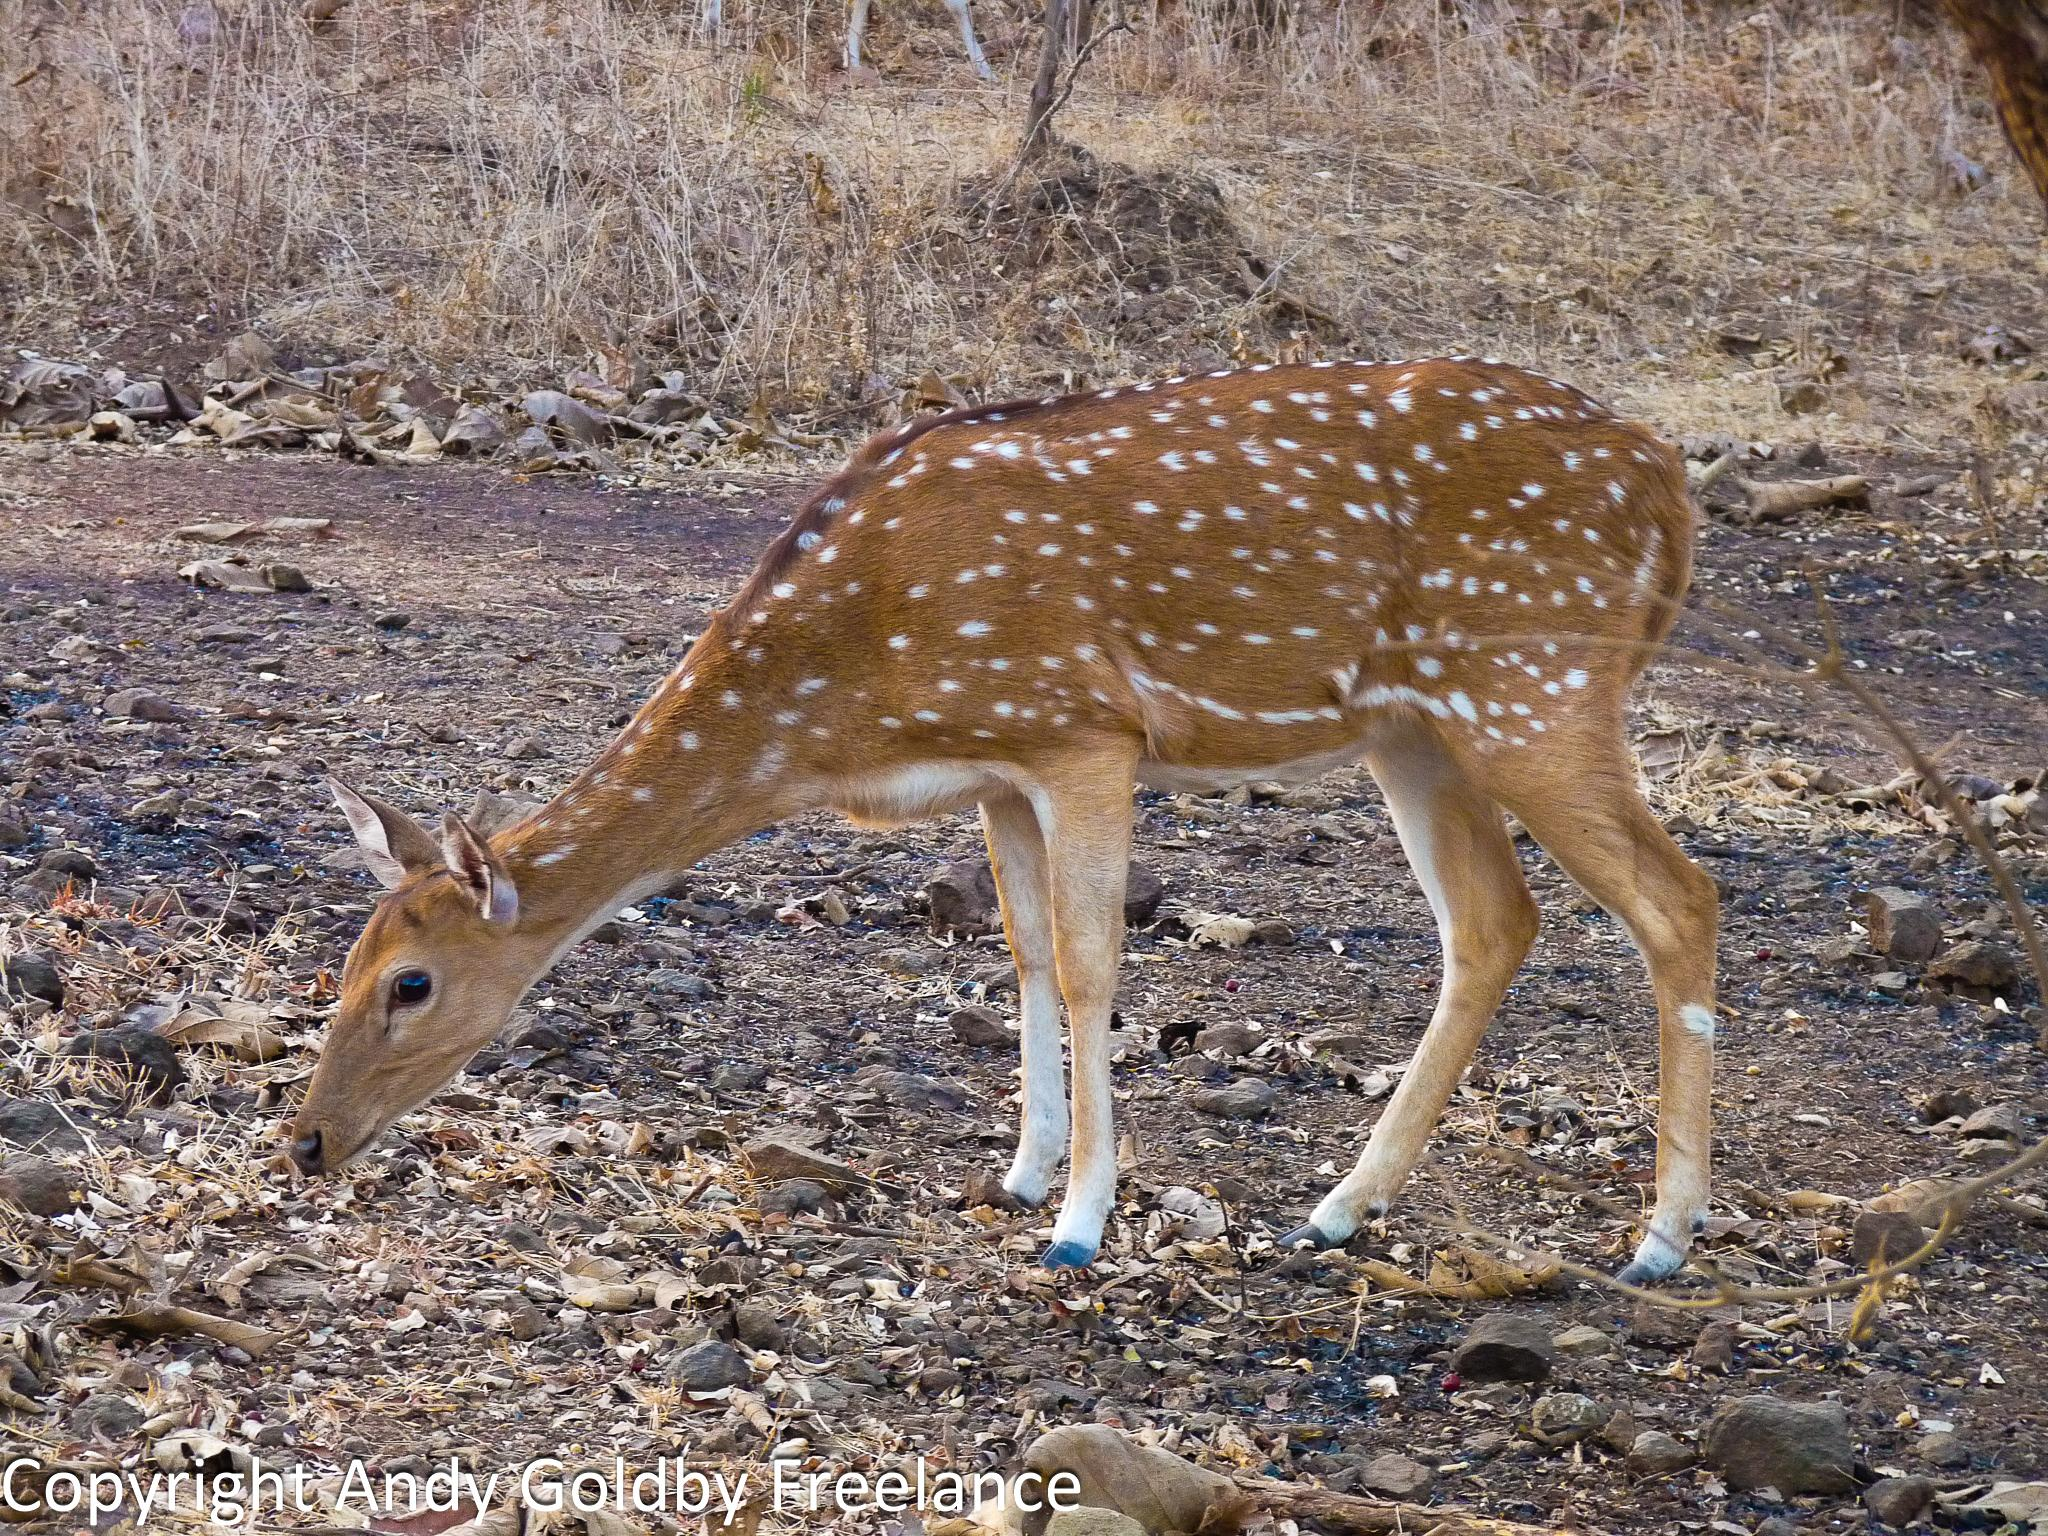Deer: (290, 360, 1716, 1281)
